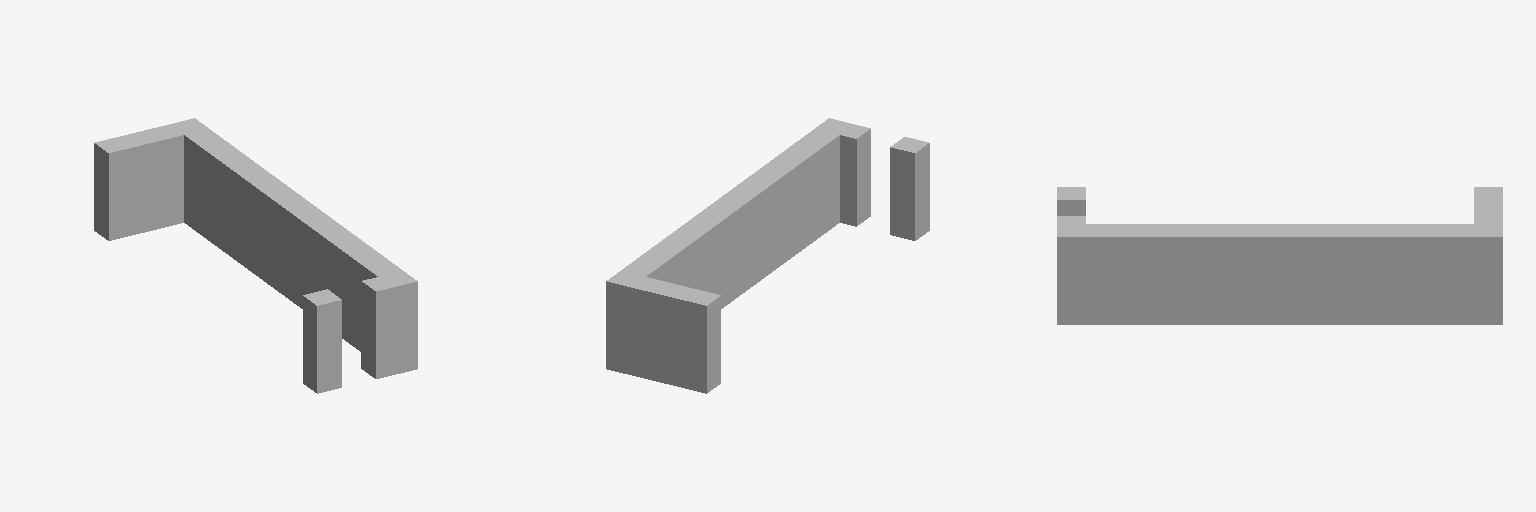
File: escenario (1)-12.obj
The picture shows the model from 3 angles: view 1: azimuth 30°, elevation 25°; view 2: azimuth 150°, elevation 25°; view 3: azimuth 270°, elevation 25°; orthographic projection.
Parts seen in each view (by area): view 1: object 1; view 2: object 1; view 3: object 1.
Boxes of the visible parts, box(x1,y1,x2,y2) form: object 1: box(94, 118, 417, 393); object 1: box(606, 118, 929, 393); object 1: box(1057, 187, 1502, 324).
Size of the model in its own units: 1.2 by 1 by 4.6.